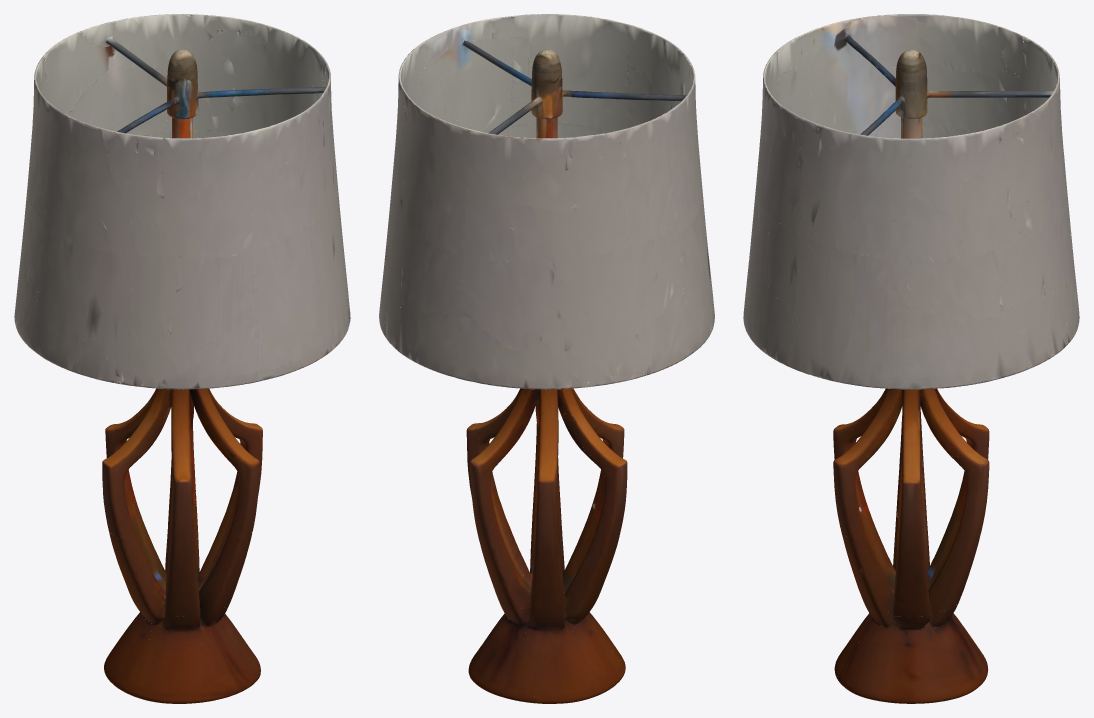
Rendered from Modern_lamp1.glb.
3 renders of one model, left to right at view 1: azimuth 30°, elevation 25°; view 2: azimuth 150°, elevation 25°; view 3: azimuth 270°, elevation 25°, orthographic.
Parts seen in each view (by area): view 1: tripo_node_2f047d16-6580-4d9d-9551-f363a16a24d1; view 2: tripo_node_2f047d16-6580-4d9d-9551-f363a16a24d1; view 3: tripo_node_2f047d16-6580-4d9d-9551-f363a16a24d1.
Boxes of the visible parts, x1,y1,x2,y2 form: tripo_node_2f047d16-6580-4d9d-9551-f363a16a24d1: [14, 14, 350, 703]; tripo_node_2f047d16-6580-4d9d-9551-f363a16a24d1: [379, 14, 714, 703]; tripo_node_2f047d16-6580-4d9d-9551-f363a16a24d1: [743, 14, 1079, 703].
Size of the model in its own units: 0.4887 by 0.9999 by 0.4888.
1 material, 1 textured.
